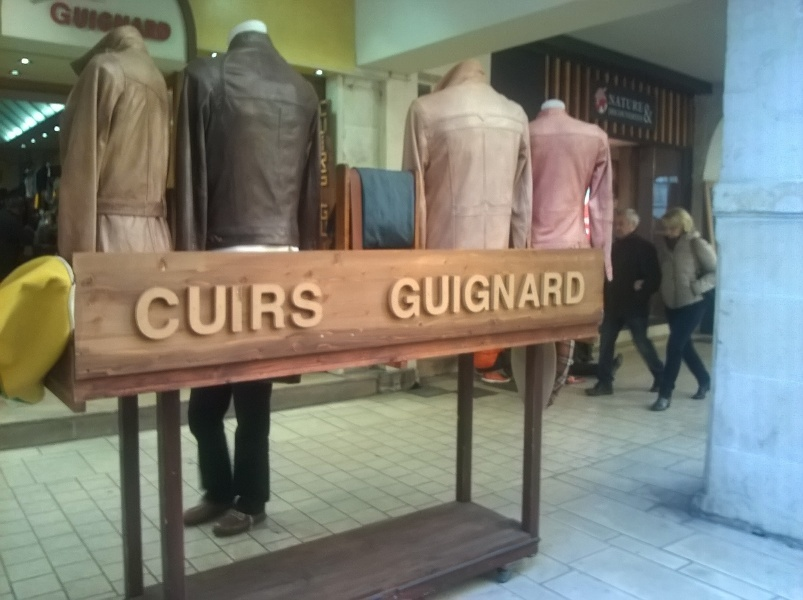text: (145, 281, 160, 342), (161, 281, 176, 342), (177, 281, 192, 342), (193, 281, 208, 342), (209, 281, 224, 342), (225, 281, 240, 342), (241, 281, 256, 342), (257, 281, 272, 342), (273, 281, 288, 342), (289, 281, 304, 342), (305, 281, 320, 342), (401, 270, 416, 322), (417, 270, 432, 322), (433, 270, 448, 322), (449, 270, 464, 322), (465, 270, 480, 322), (481, 270, 496, 322), (497, 270, 512, 322), (513, 270, 528, 322), (529, 270, 544, 322), (545, 270, 560, 322), (561, 270, 576, 322), (321, 101, 329, 188), (387, 270, 400, 322), (65, 1, 80, 43), (81, 1, 96, 43), (97, 1, 112, 43), (113, 1, 128, 43), (129, 1, 144, 43), (145, 1, 160, 43), (134, 281, 144, 342), (52, 1, 64, 43), (161, 1, 173, 43), (577, 270, 586, 322), (609, 94, 624, 115), (625, 94, 640, 115), (321, 281, 326, 342), (644, 103, 656, 125), (609, 107, 624, 123), (625, 107, 640, 123), (321, 203, 328, 237), (318, 101, 320, 188), (641, 94, 644, 115), (641, 107, 644, 123)
